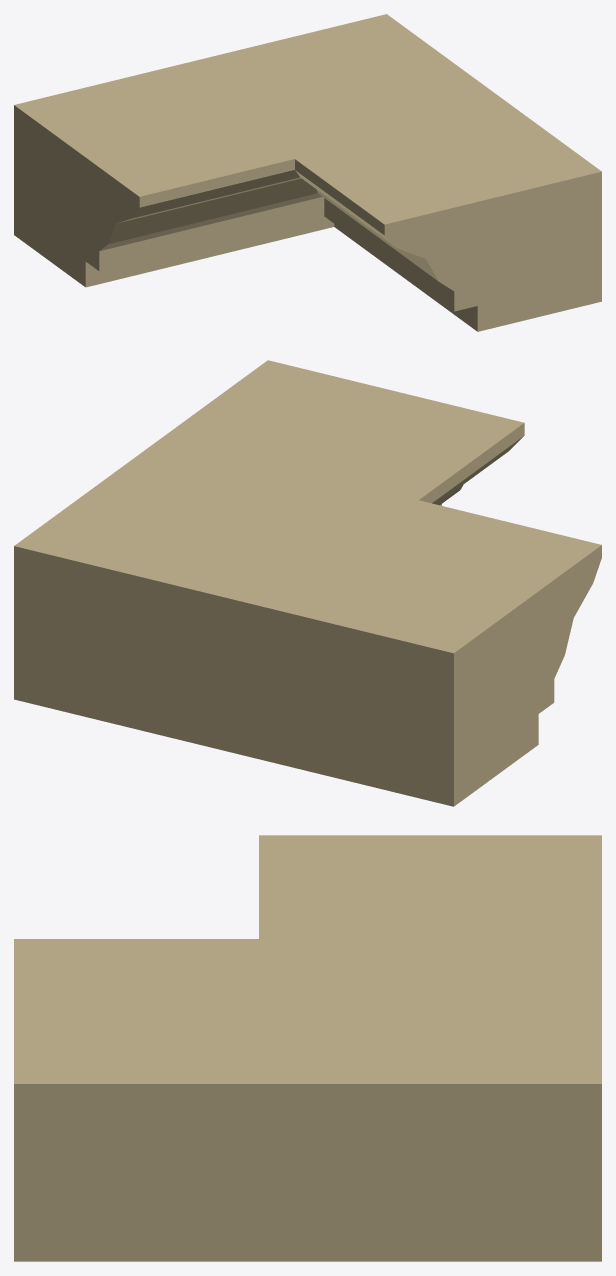
The model's file is rpg-mansion-stone-cornice-corner-01.glb.
3 views of the same model, one above another, from view 1: azimuth 30°, elevation 25°; view 2: azimuth 150°, elevation 25°; view 3: azimuth 270°, elevation 25° (orthographic). The views are drawn at different scales.
Visible parts, largest first — view 1: rpg-mansion-stone-cornice-corner-01; view 2: rpg-mansion-stone-cornice-corner-01; view 3: rpg-mansion-stone-cornice-corner-01.
Boxes of the visible parts, x1,y1,x2,y2 form: rpg-mansion-stone-cornice-corner-01: [14, 14, 601, 331]; rpg-mansion-stone-cornice-corner-01: [14, 360, 601, 806]; rpg-mansion-stone-cornice-corner-01: [14, 835, 601, 1261].
Bounding box in the file's own units: 0.72 × 0.24 × 0.72.
